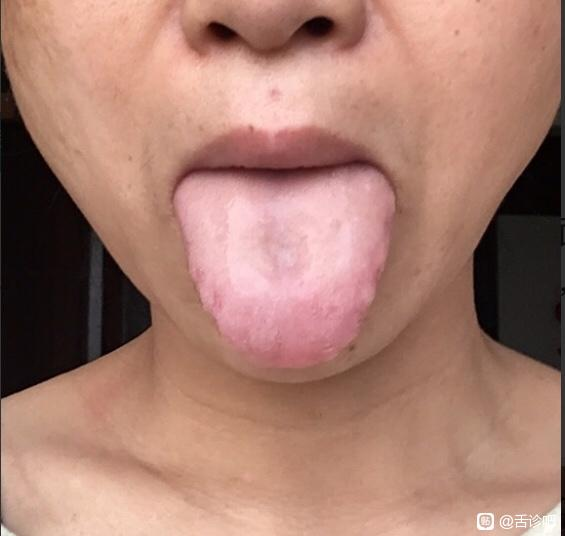baitaishe: (175, 163, 396, 369)
chihenshe: (179, 221, 237, 354), (356, 202, 396, 332)
pangdashe: (175, 163, 396, 369)
